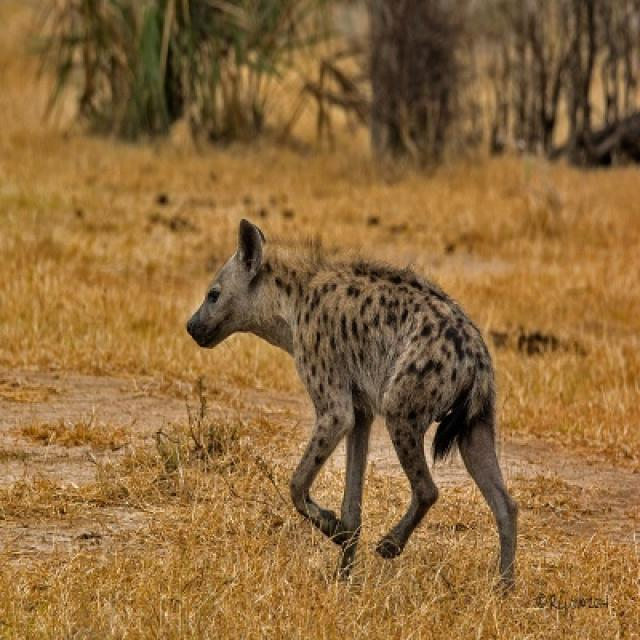hyena: (184, 221, 520, 594)
